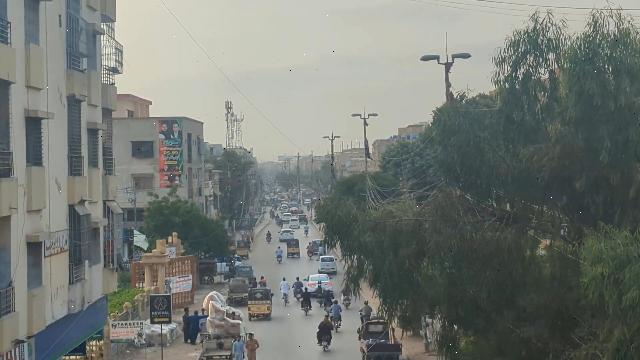Bike: (319, 334, 331, 354), (332, 316, 341, 333), (302, 300, 310, 319), (281, 291, 289, 307), (317, 293, 323, 308), (325, 302, 331, 314)
Car: (304, 274, 335, 294), (316, 255, 339, 274)
Person: (188, 309, 201, 345), (244, 331, 259, 360), (197, 308, 210, 340), (231, 334, 244, 360), (180, 306, 189, 342), (318, 316, 332, 337), (330, 297, 342, 317), (358, 299, 373, 315), (300, 286, 312, 304), (279, 276, 290, 294), (324, 289, 333, 303), (315, 281, 324, 293)
Rickshaw: (247, 286, 275, 321)
Suzuki: (355, 315, 403, 360), (225, 277, 251, 308)
